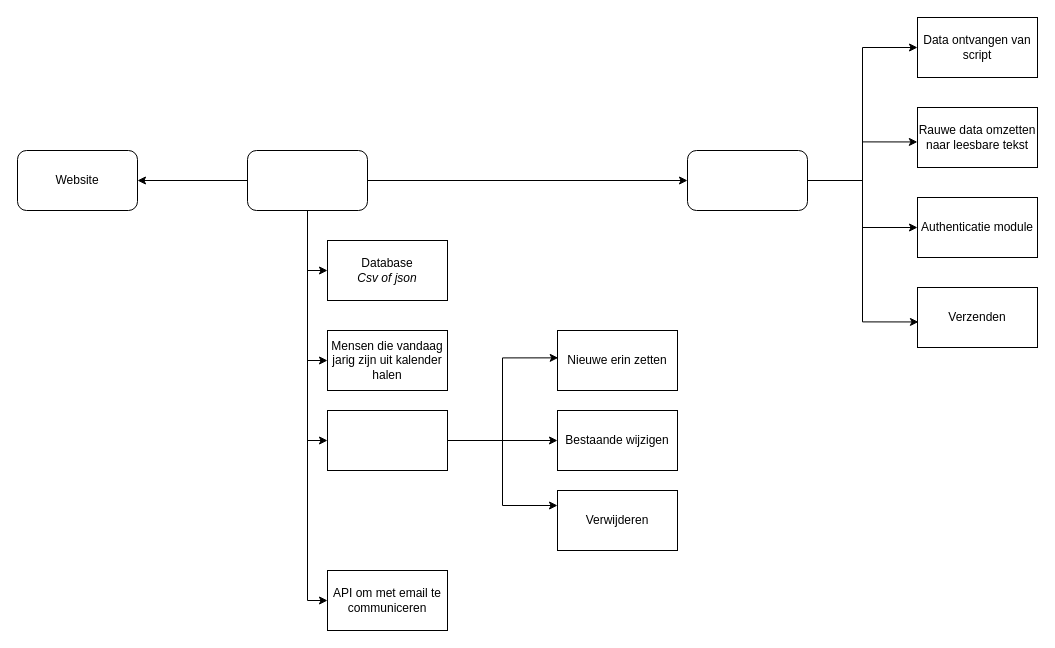
The diagram is 1055 pixels wide and 648 high, and some of its shapes have lost their labels. Each missing label, with the centre of its shape:
"Email verstuurprogramma" goes at point 747,180.
"Functies voor mutatie Extra functie in pythonscript" goes at point 387,440.
"Verjaardagskalender" goes at point 307,180.
